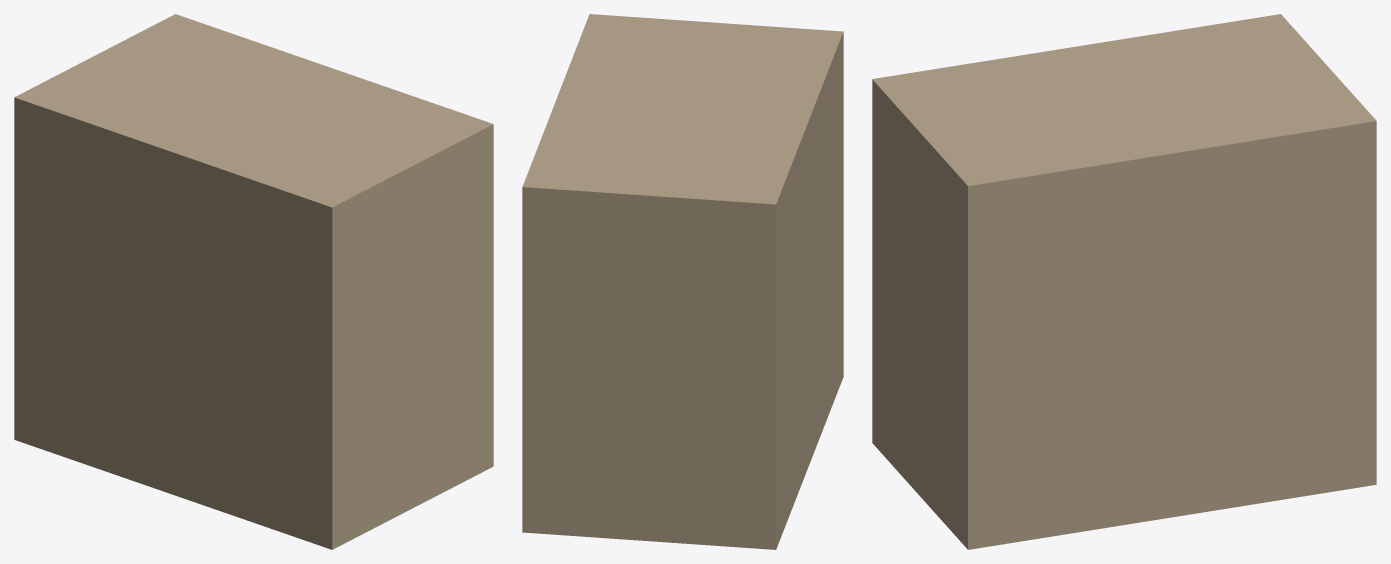
Rendered from bld_106338941.dae.
3 views of the same model, side by side, from view 1: azimuth 30°, elevation 25°; view 2: azimuth 150°, elevation 25°; view 3: azimuth 270°, elevation 25° (orthographic). The views are drawn at different scales.
Parts seen in each view (by area): view 1: bld_106338941; view 2: bld_106338941; view 3: bld_106338941.
Part boxes in pixels (bbox=[...]): bld_106338941: bbox=[14, 14, 493, 549]; bld_106338941: bbox=[522, 14, 843, 549]; bld_106338941: bbox=[872, 14, 1376, 549].
Size of the model in its own units: 8.12 by 10.06 by 8.
